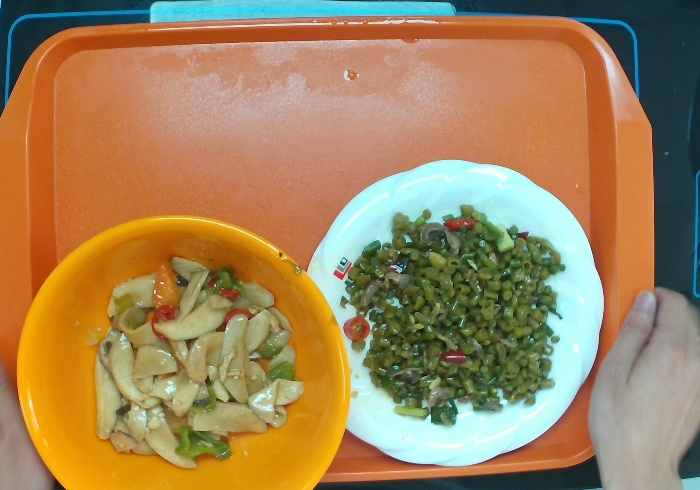ZNLD-Hua_Bian_Wan: (301, 155, 606, 469)
ZNLD-Ju_Se_Tang_Wan: (11, 206, 357, 490)
